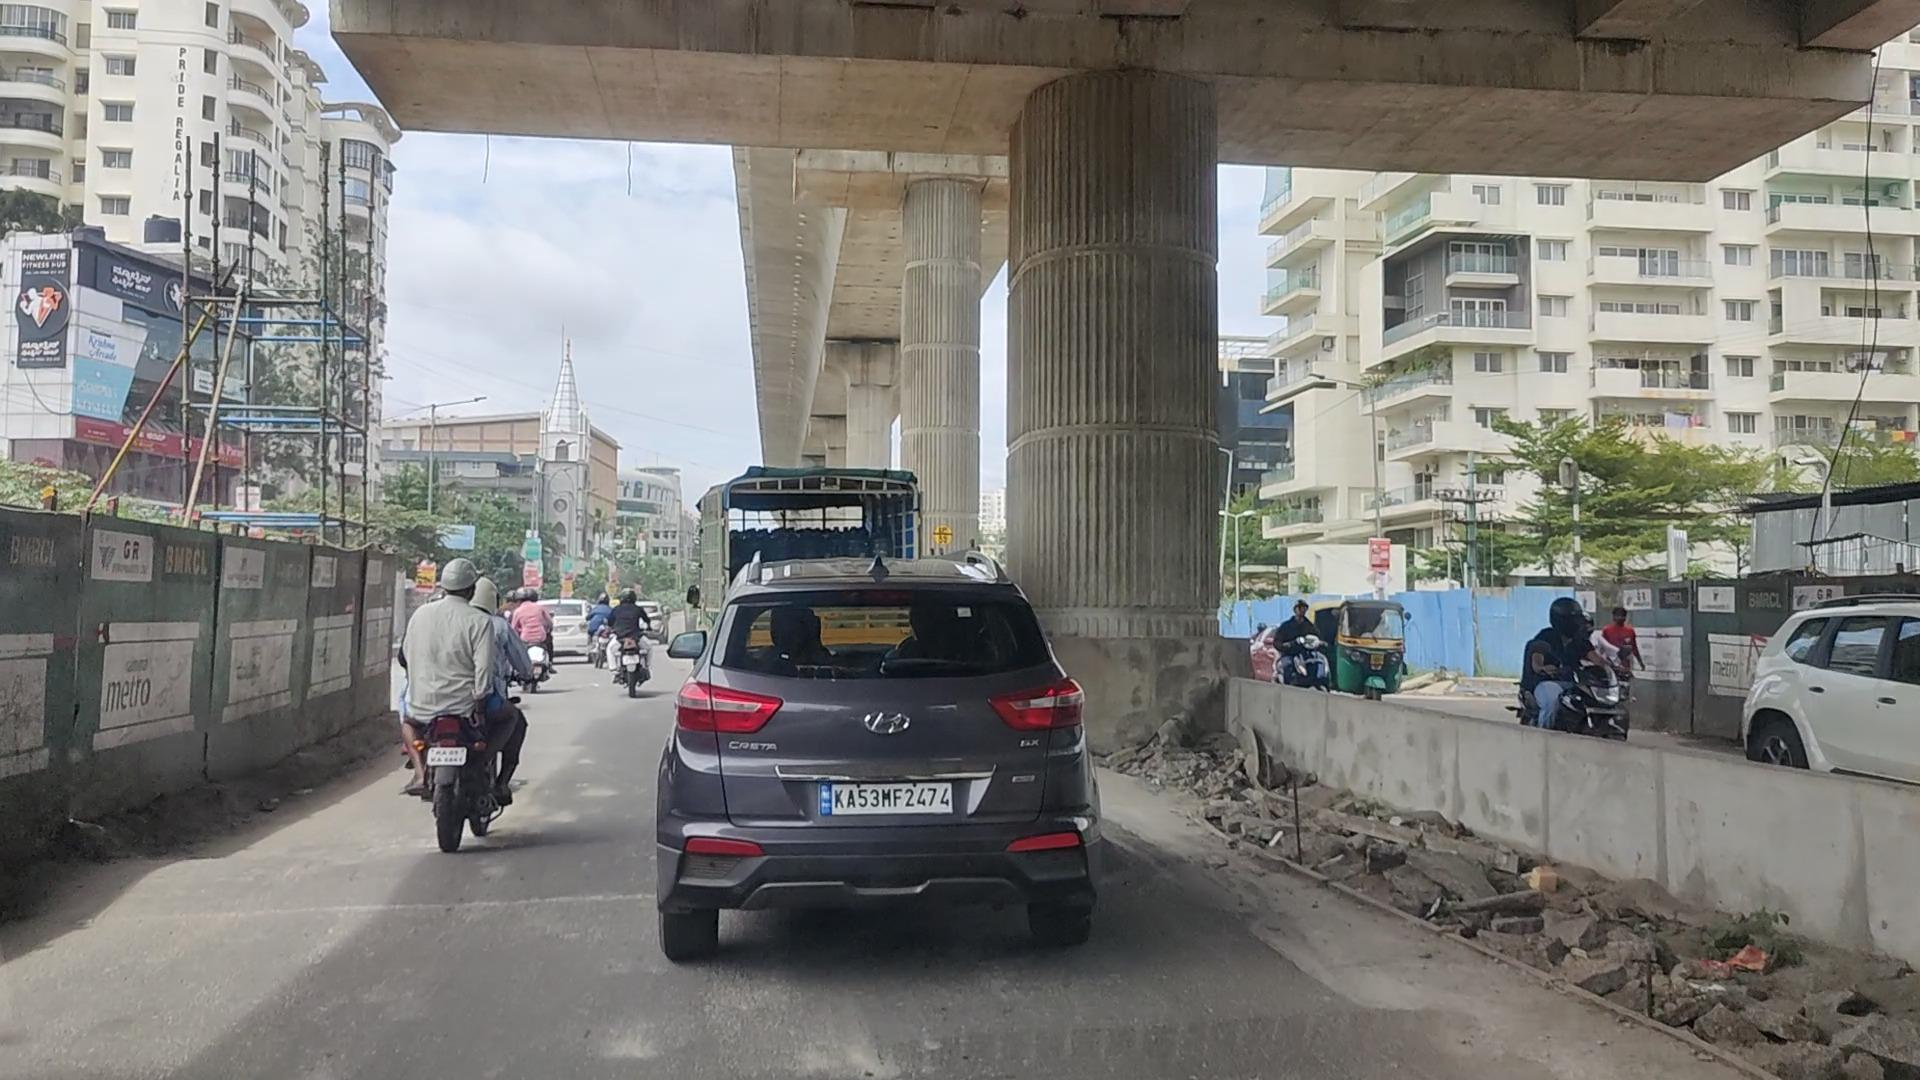LMV: (665, 564, 1100, 949), (414, 547, 517, 845)
SpeedBump: (91, 844, 655, 907)
